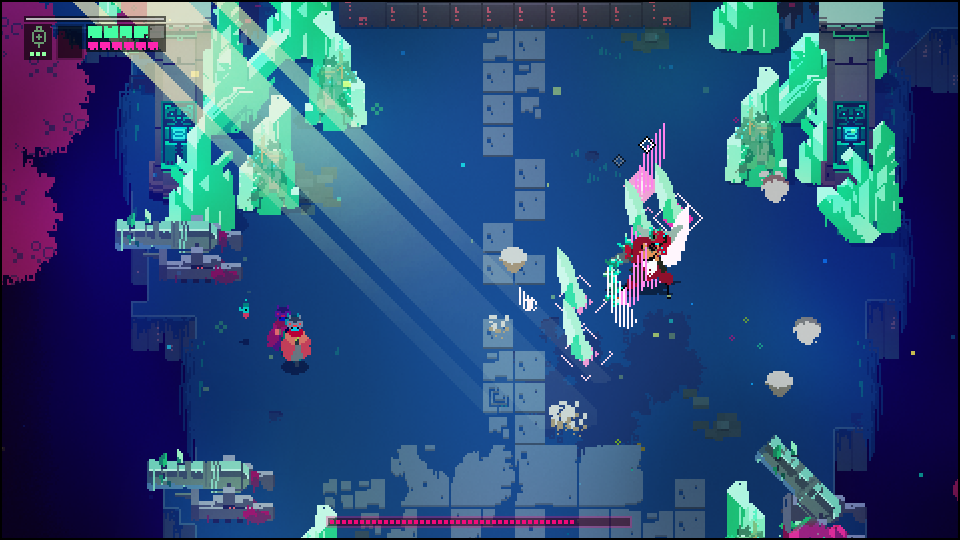hanged_crys: (639, 121, 669, 181), (563, 306, 593, 365), (651, 163, 681, 217), (556, 249, 583, 307), (621, 181, 648, 226)
hanged_man: (601, 224, 673, 301)
player: (278, 311, 312, 373)
